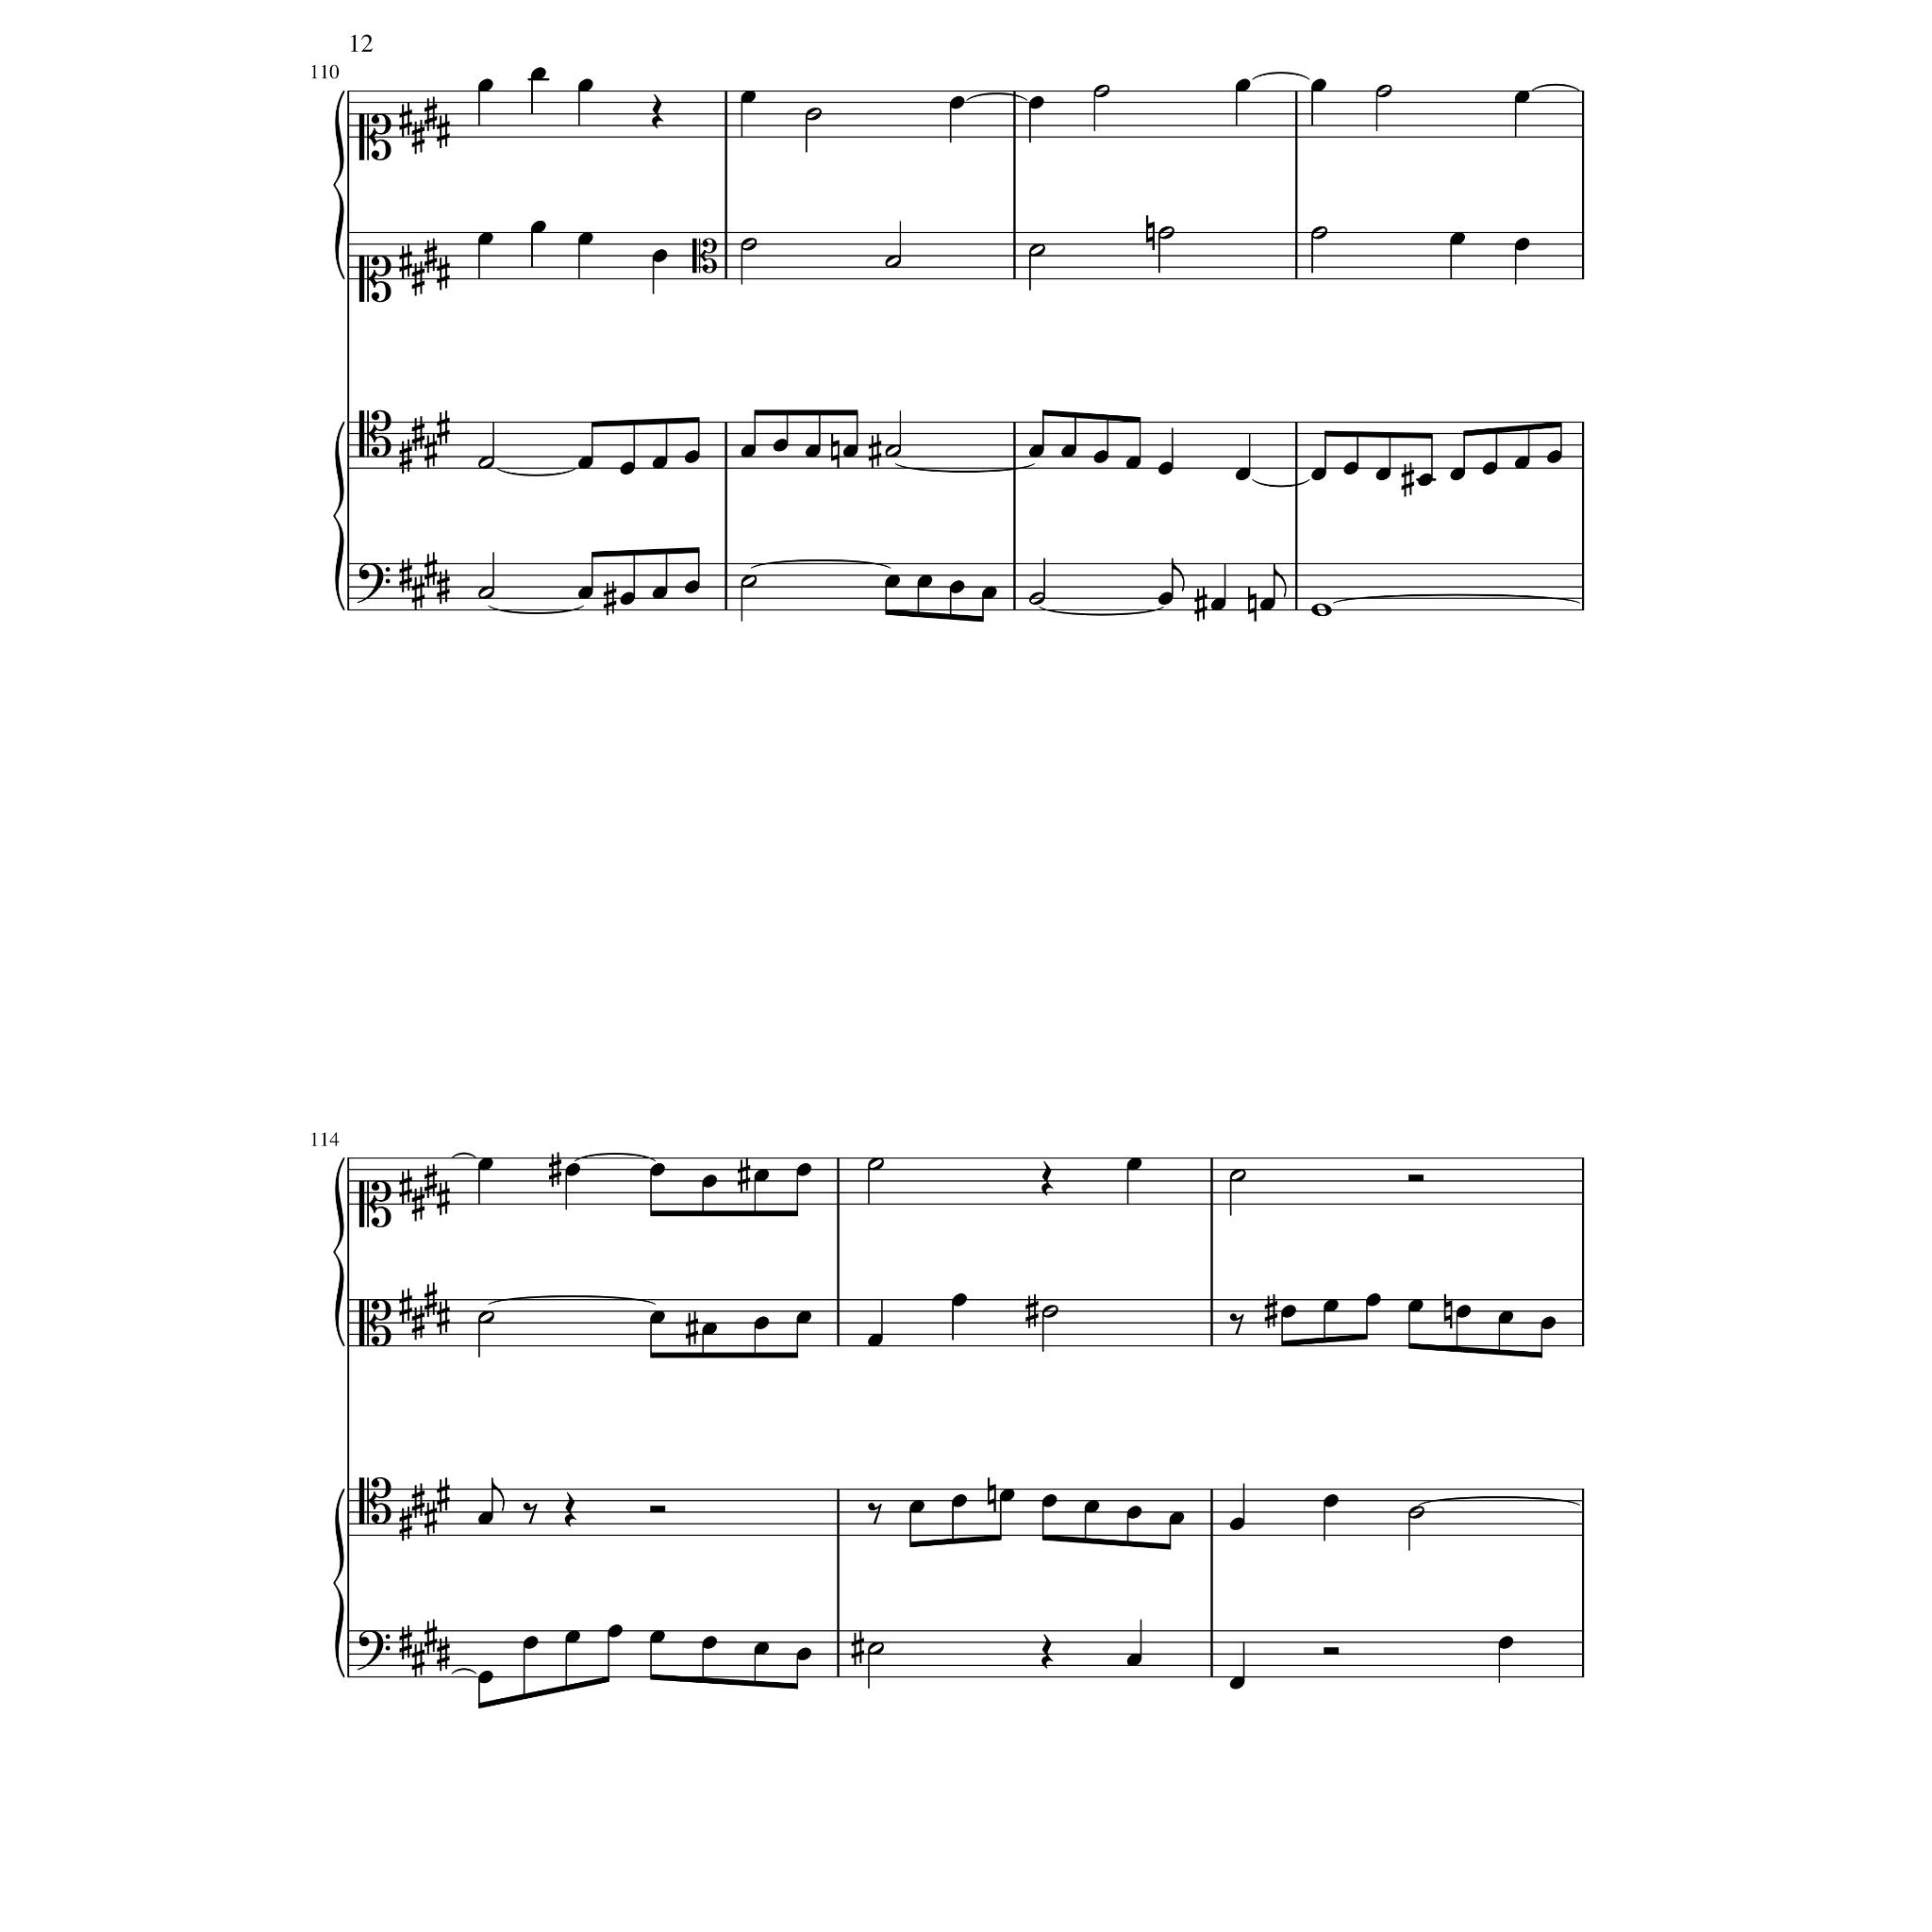brace: (332, 90, 345, 280), (332, 421, 345, 611), (332, 1488, 345, 1678), (332, 1157, 345, 1347)
fClef: (357, 1630, 391, 1672), (357, 564, 391, 604)
flag8thUp: (1172, 558, 1185, 592), (1274, 564, 1287, 598), (491, 1477, 505, 1511)
noteheadBlack: (1092, 449, 1109, 464), (683, 449, 700, 464), (651, 249, 668, 264), (1455, 1304, 1472, 1319), (1547, 449, 1562, 464), (1281, 1304, 1296, 1319), (702, 1174, 717, 1189), (1234, 79, 1251, 92), (1234, 468, 1251, 481), (1209, 598, 1226, 611), (1309, 79, 1326, 92), (1309, 468, 1326, 481), (1258, 598, 1275, 611), (1157, 592, 1174, 606), (1157, 462, 1174, 475), (1124, 457, 1141, 470), (1060, 444, 1077, 458), (1481, 462, 1498, 475), (1449, 468, 1466, 481), (1449, 232, 1466, 245), (1417, 474, 1434, 487), (619, 462, 636, 475), (619, 592, 636, 606), (577, 587, 594, 600), (577, 79, 594, 92), (577, 232, 594, 245), (577, 457, 594, 470), (683, 580, 700, 593), (651, 457, 668, 470), (651, 587, 668, 600), (477, 232, 494, 245), (477, 79, 494, 92), (841, 444, 858, 458), (804, 444, 821, 458), (981, 587, 998, 600), (740, 444, 757, 458), (740, 91, 757, 104), (772, 439, 789, 452), (1168, 1511, 1185, 1524), (1228, 1676, 1245, 1690), (1228, 1517, 1245, 1530), (998, 1489, 1015, 1502), (1083, 1500, 1100, 1513), (1540, 1316, 1557, 1329), (1323, 1494, 1340, 1507), (1323, 1299, 1340, 1312), (1407, 1299, 1424, 1312), (564, 1630, 581, 1643), (564, 1163, 581, 1176), (649, 1310, 666, 1324), (649, 1630, 666, 1643), (649, 1163, 666, 1176), (477, 1671, 494, 1684), (477, 1511, 494, 1524), (477, 1158, 494, 1171), (753, 1641, 770, 1655), (753, 1316, 770, 1329), (753, 1169, 770, 1182), (1028, 444, 1043, 458), (1515, 457, 1530, 470), (1515, 239, 1530, 252), (1515, 91, 1530, 104), (1343, 462, 1358, 475), (1375, 468, 1391, 481), (530, 68, 545, 81), (530, 221, 545, 234), (885, 575, 900, 588), (1028, 96, 1043, 109), (949, 580, 964, 593), (949, 96, 964, 109), (917, 575, 932, 588), (1126, 1654, 1141, 1667), (1126, 1506, 1141, 1519), (1126, 1158, 1141, 1171), (951, 1494, 966, 1507), (951, 1293, 966, 1307), (909, 1500, 924, 1513), (1041, 1494, 1057, 1507), (1498, 1636, 1513, 1649), (1498, 1310, 1513, 1324), (1366, 1293, 1381, 1307), (523, 1636, 538, 1649), (608, 1624, 623, 1638), (868, 1334, 883, 1347), (796, 1647, 811, 1660), (796, 1310, 811, 1324), (796, 1163, 811, 1176), (702, 1636, 717, 1649), (702, 1323, 717, 1336)
noteheadHalf: (1041, 1304, 1058, 1319), (1310, 226, 1327, 240), (1028, 592, 1045, 606), (1158, 226, 1174, 240), (1093, 85, 1110, 98), (1375, 85, 1392, 98), (1028, 243, 1045, 257), (477, 587, 494, 600), (477, 457, 494, 470), (884, 256, 901, 269), (884, 444, 901, 458), (805, 108, 822, 121), (741, 575, 758, 588), (741, 239, 758, 252), (1229, 1169, 1246, 1182), (1407, 1506, 1424, 1519), (477, 1310, 494, 1324), (867, 1641, 884, 1655), (867, 1158, 884, 1171)
noteheadWhole: (1309, 604, 1332, 617)
rest8th: (1229, 1313, 1244, 1336), (523, 1503, 538, 1525), (867, 1503, 882, 1525)
restHalf: (1323, 1647, 1340, 1655), (1407, 1174, 1424, 1182), (649, 1506, 666, 1513)
restQuarter: (651, 93, 664, 129), (564, 1491, 577, 1527), (1041, 1634, 1053, 1670), (1041, 1160, 1053, 1196)
